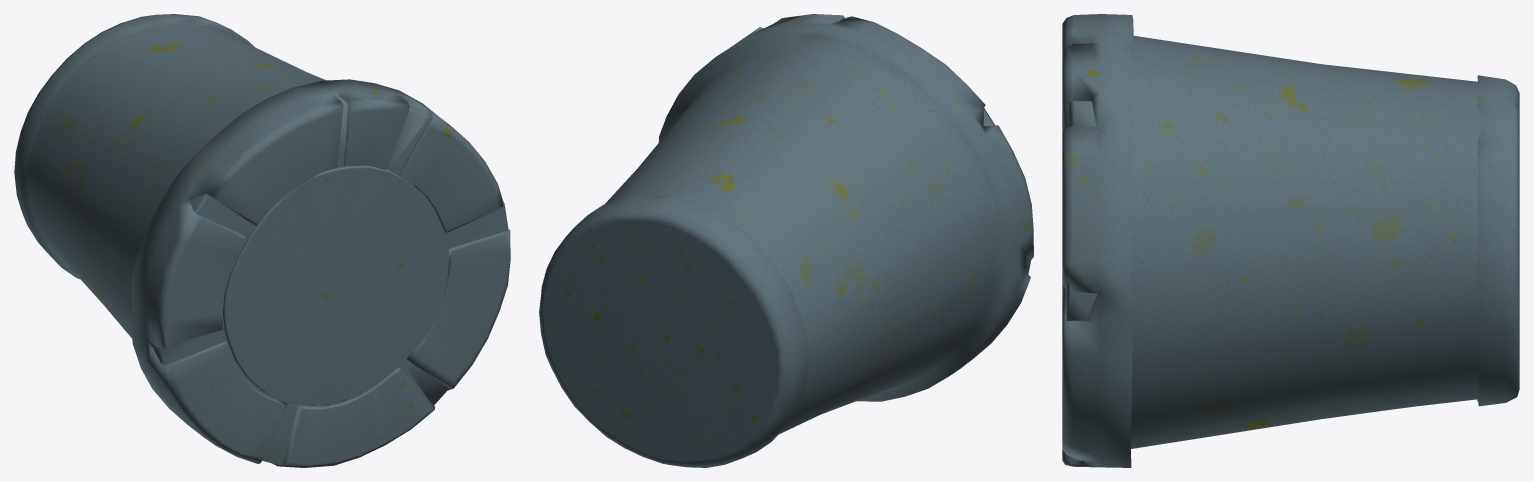
Rendered from rock-pillar.glb.
3 renders of one model, left to right at view 1: azimuth 30°, elevation 25°; view 2: azimuth 150°, elevation 25°; view 3: azimuth 270°, elevation 25°, orthographic. The views are drawn at different scales.
Size of the model in its own units: 1 by 0.9948 by 1.
Materials: 1 (1 with a texture image).
